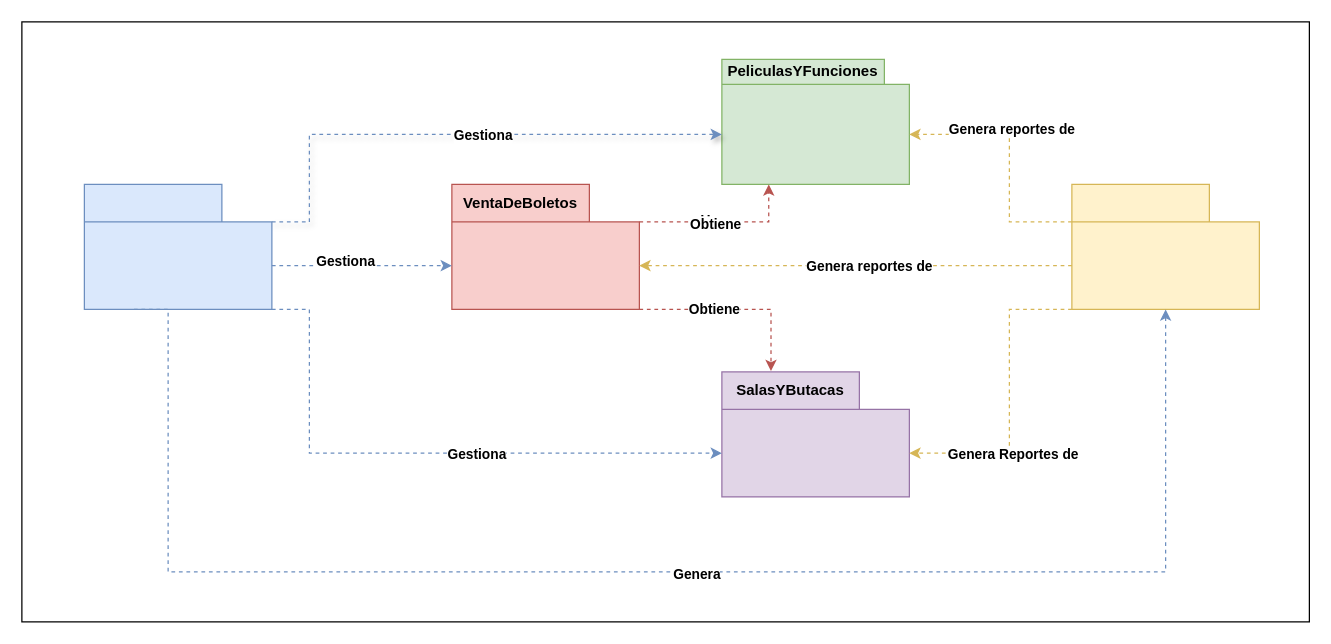
Image size: 1331x644. Some labels were removed from this diagram. Each missing label, with the centre of its shape:
"Reportes" goes at (x=1165, y=246).
"Usuarios" goes at (x=177, y=246).
